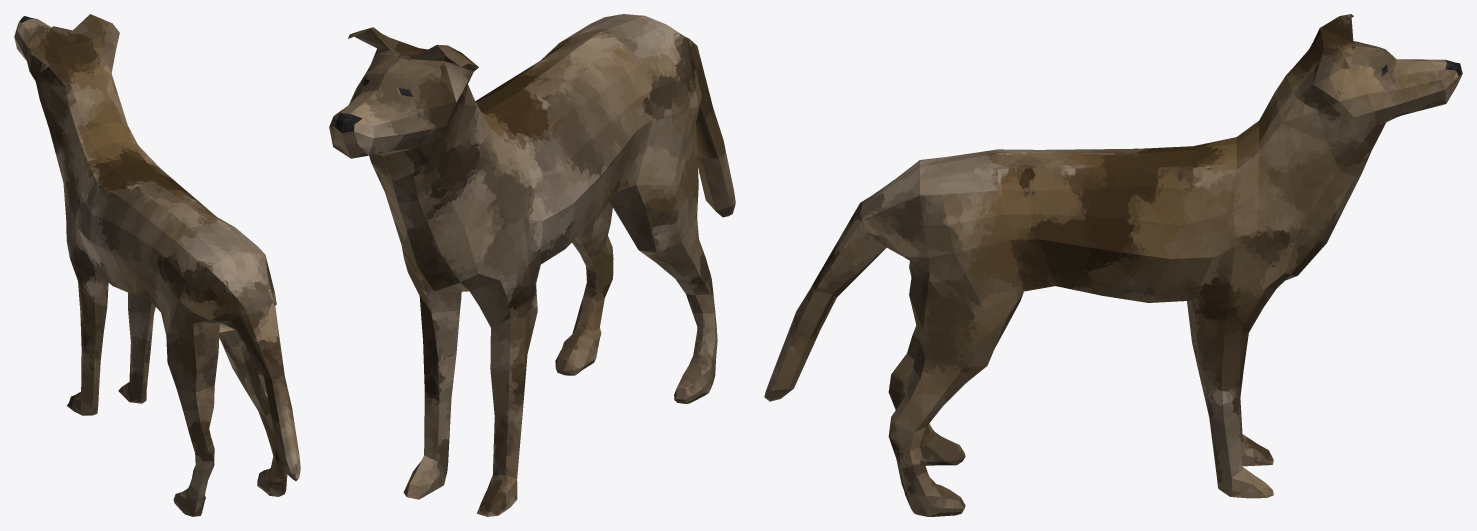
The model's file is Doggito.fbx.
3 renders of one model, left to right at view 1: azimuth 30°, elevation 25°; view 2: azimuth 150°, elevation 25°; view 3: azimuth 270°, elevation 25°, orthographic. The views are drawn at different scales.
Visible parts, largest first — view 1: Plane.001; view 2: Plane.001; view 3: Plane.001.
Part boxes in pixels (box(x1,y1,x2,y2)): Plane.001: box(14, 14, 300, 516); Plane.001: box(329, 14, 735, 516); Plane.001: box(764, 14, 1462, 516).
Size of the model in its own units: 169 by 583 by 804.
